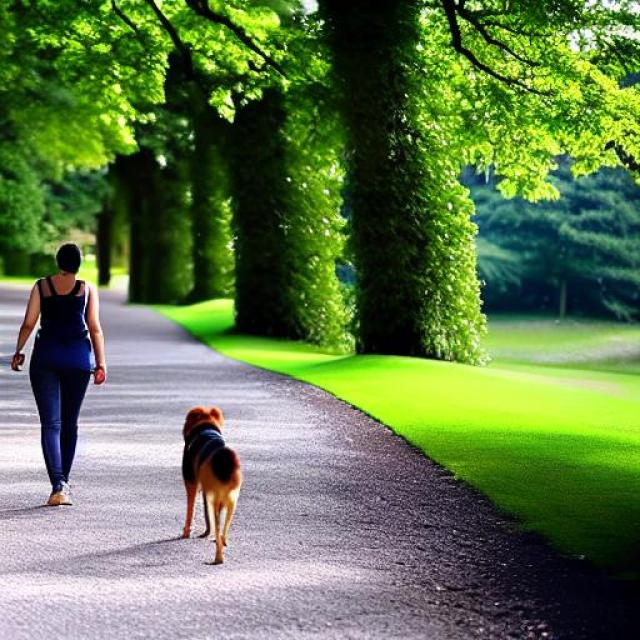Unleashed_Dog: (37, 347, 243, 565)
